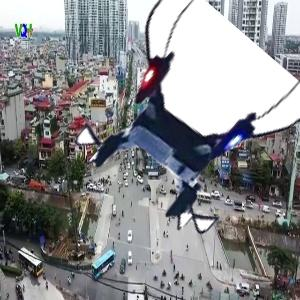drone: (84, 18, 291, 225)
